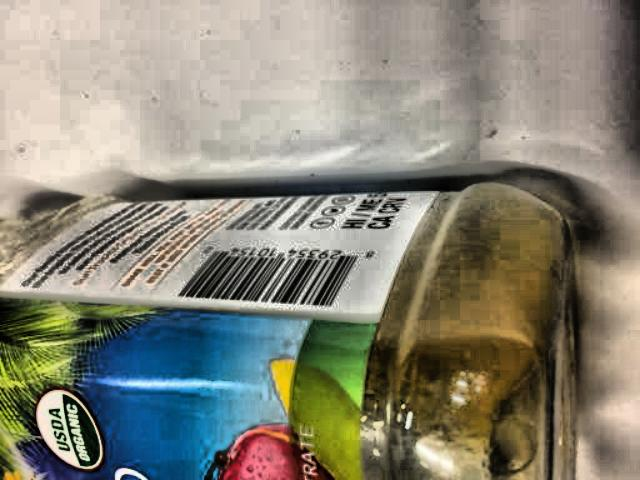Plastic: (0, 157, 601, 480)
